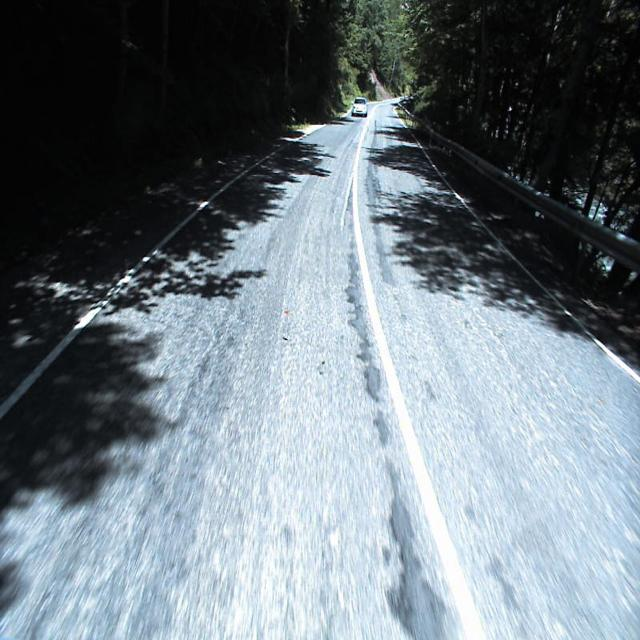road: (0, 102, 640, 639)
